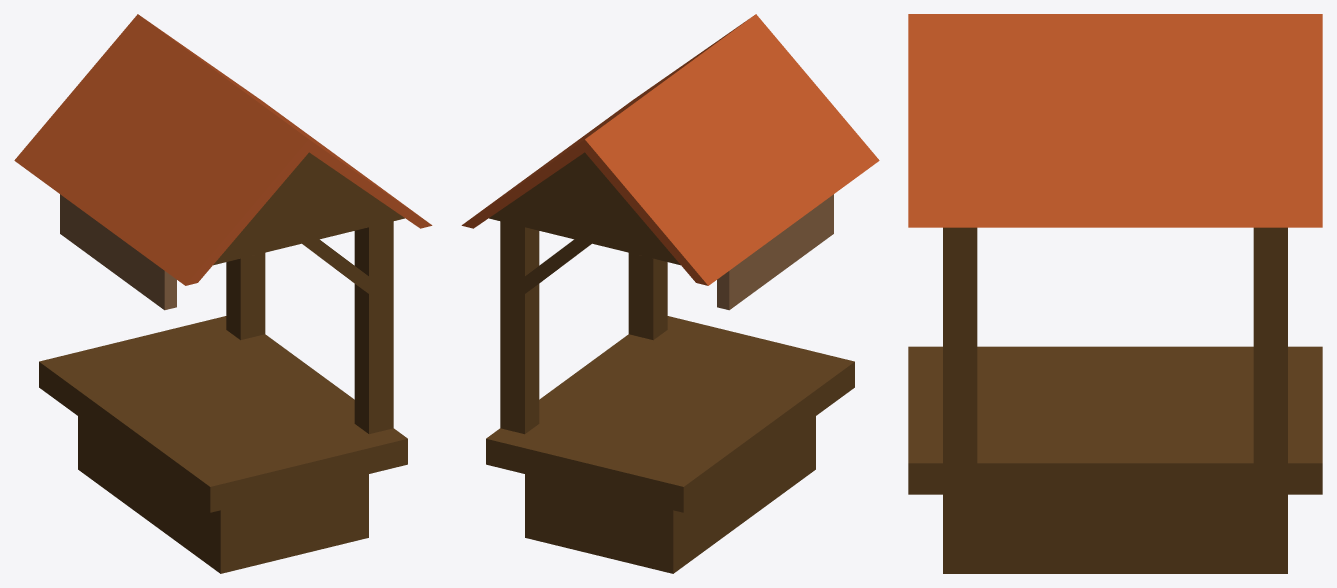
The model's file is ShopStand.fbx.
3 views of the same model, side by side, from view 1: azimuth 30°, elevation 25°; view 2: azimuth 150°, elevation 25°; view 3: azimuth 270°, elevation 25° (orthographic). The views are drawn at different scales.
Visible parts, largest first — view 1: Cube; view 2: Cube; view 3: Cube.
Part boxes in pixels (bbox=[...]): Cube: bbox=[14, 14, 432, 573]; Cube: bbox=[461, 14, 879, 573]; Cube: bbox=[908, 14, 1322, 573].
Bounding box in the file's own units: 100 × 165 × 120.
